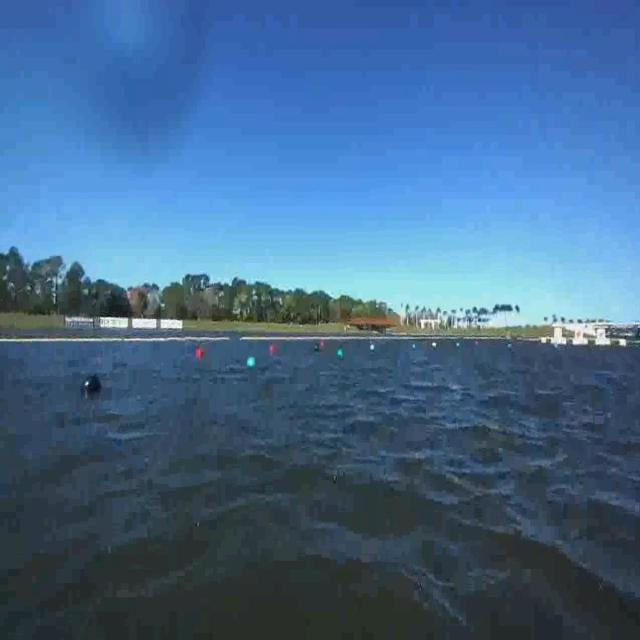black-buoy: (85, 377, 103, 396)
green-buoy: (337, 344, 347, 364), (247, 356, 256, 368)
red-buoy: (193, 346, 206, 366), (266, 341, 280, 357)
